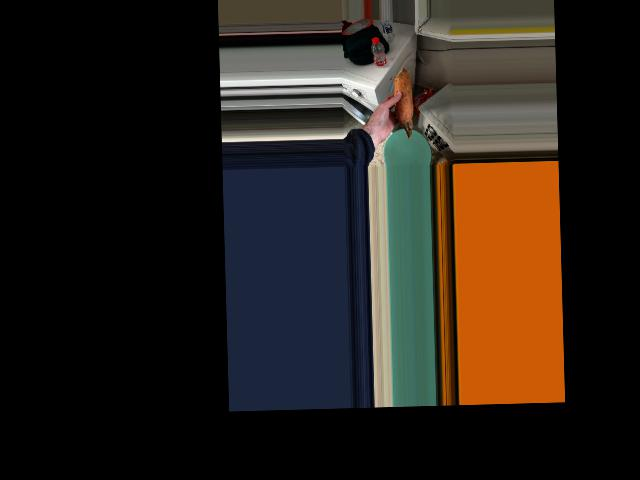sweet_potato: (388, 76, 413, 137)
